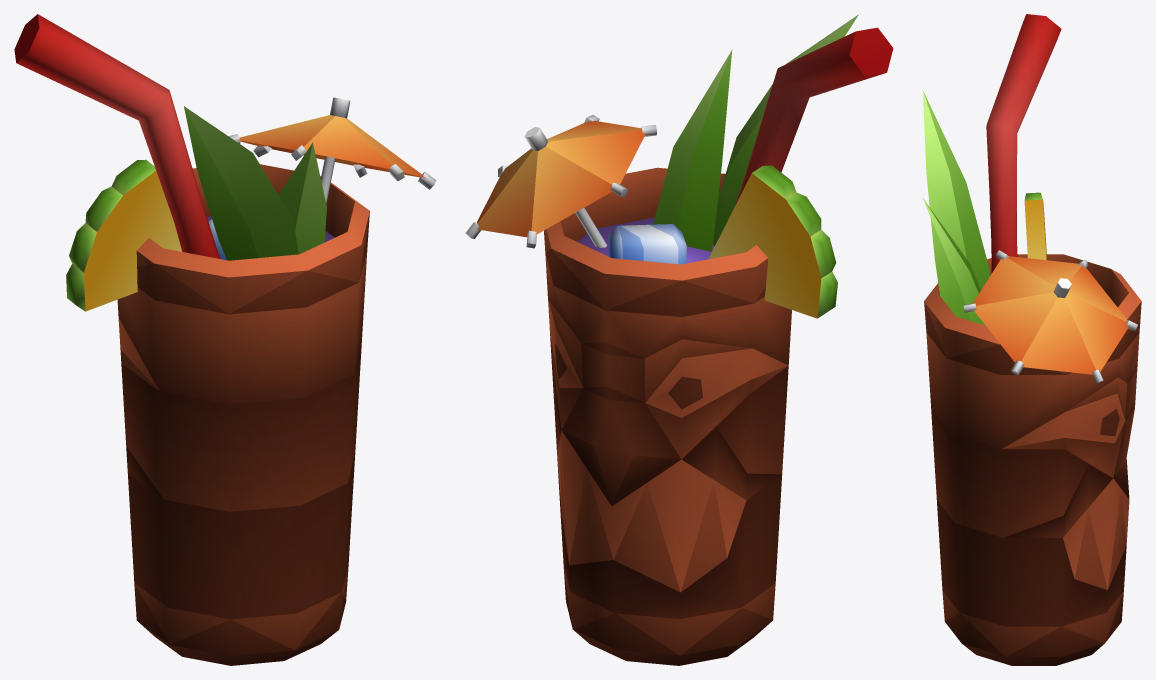
File: m_TikiDrink02.fbx
3 renders of one model, left to right at view 1: azimuth 30°, elevation 25°; view 2: azimuth 150°, elevation 25°; view 3: azimuth 270°, elevation 25°, orthographic. The views are drawn at different scales.
Visible parts, largest first — view 1: m_TikiDrink02; view 2: m_TikiDrink02; view 3: m_TikiDrink02.
Part boxes in pixels (left/top/right/bottom): m_TikiDrink02: left=14, top=14, right=436, bottom=665; m_TikiDrink02: left=465, top=14, right=893, bottom=665; m_TikiDrink02: left=922, top=14, right=1141, bottom=665.
Bounding box in the file's own units: 23.08 × 35.66 × 13.09.
